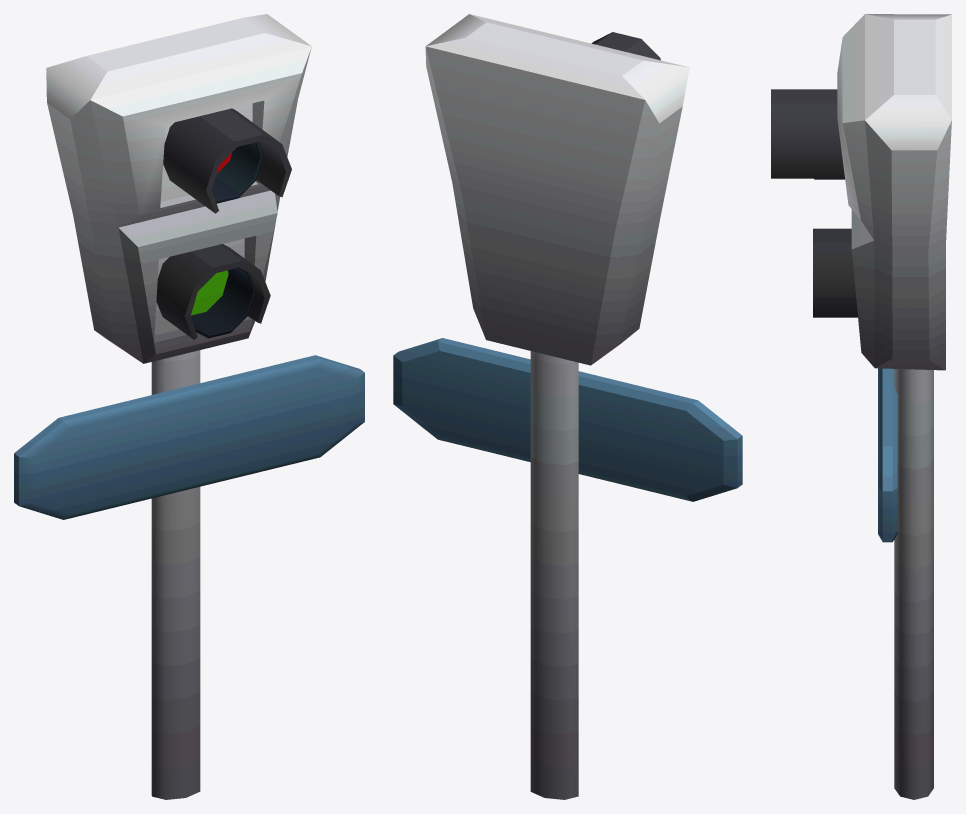
Rendered from SM_TrafficLight.fbx.
3 views of the same model, side by side, from view 1: azimuth 30°, elevation 25°; view 2: azimuth 150°, elevation 25°; view 3: azimuth 270°, elevation 25° (orthographic). The views are drawn at different scales.
Visible parts, largest first — view 1: SM_TrafficLight; view 2: SM_TrafficLight; view 3: SM_TrafficLight.
Boxes of the visible parts, x1,y1,x2,y2 form: SM_TrafficLight: (14,14,364,799); SM_TrafficLight: (393,14,742,799); SM_TrafficLight: (771,14,951,799).
Size of the model in its own units: 19.87 by 40.93 by 9.18.
